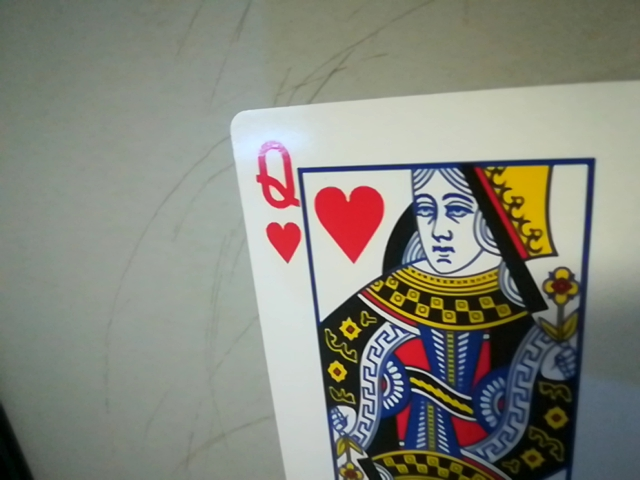hx q: (247, 131, 307, 267)
